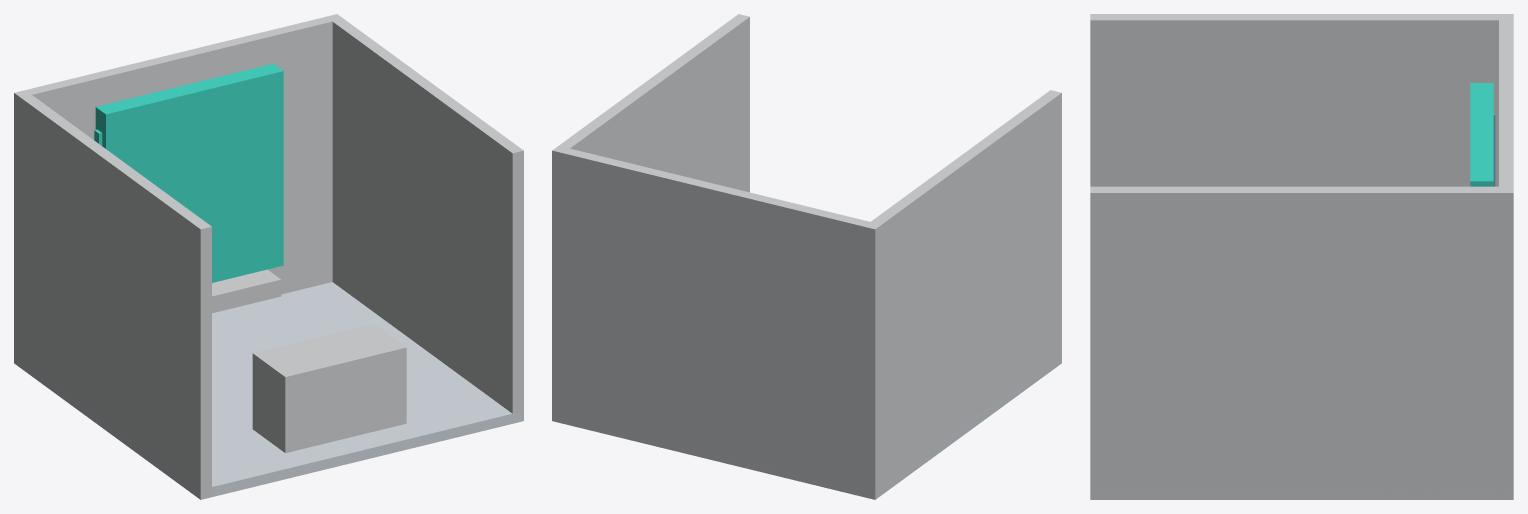
3 renders of one model, left to right at view 1: azimuth 30°, elevation 25°; view 2: azimuth 150°, elevation 25°; view 3: azimuth 270°, elevation 25°, orthographic. The views are drawn at different scales.
Visible parts, largest first — view 1: Exhibition Booth Concept; view 2: Exhibition Booth Concept; view 3: Exhibition Booth Concept.
Boxes of the visible parts, x1,y1,x2,y2 form: Exhibition Booth Concept: [14, 14, 523, 499]; Exhibition Booth Concept: [552, 14, 1061, 499]; Exhibition Booth Concept: [1090, 14, 1513, 499].
Size of the model in its own units: 4 by 3.2 by 4.
